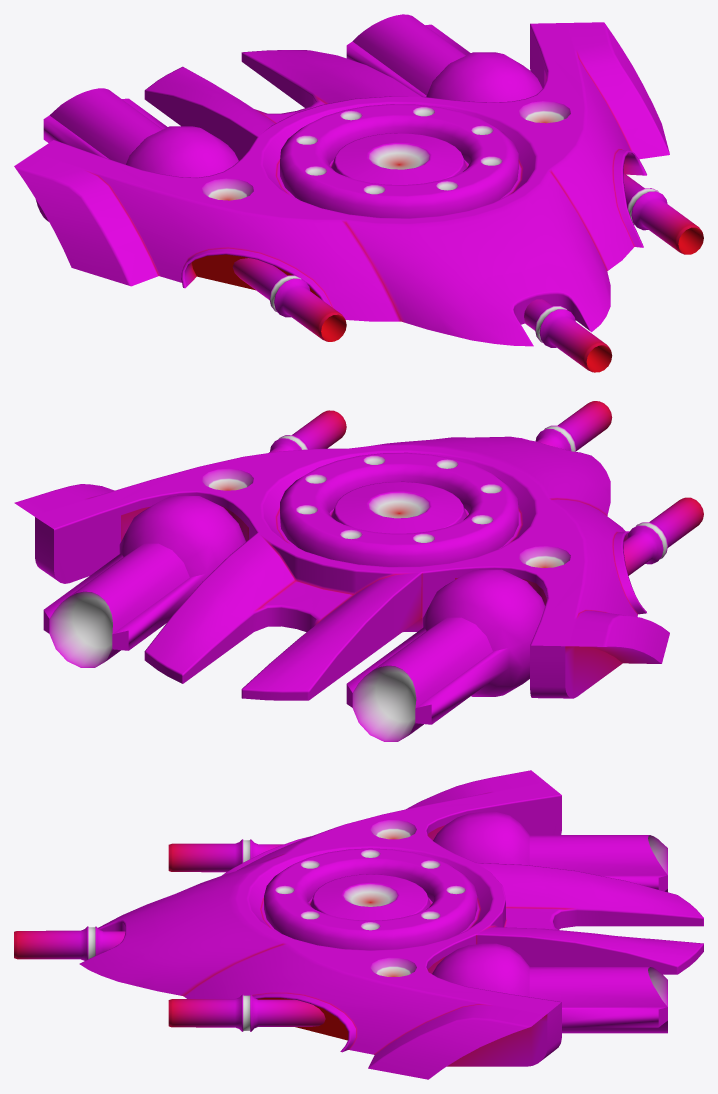
File: CHILLI Shooter Ship.fbx
3 views of the same model, one above another, from view 1: azimuth 30°, elevation 25°; view 2: azimuth 150°, elevation 25°; view 3: azimuth 270°, elevation 25° (orthographic). The views are drawn at different scales.
Parts seen in each view (by area): view 1: Body, shot_disc, barrel_dual, barrel_single; view 2: Body, shot_disc, barrel_dual, barrel_single; view 3: Body, shot_disc, barrel_dual, barrel_single.
Boxes of the visible parts, x1,y1,x2,y2 form: Body: (14,14,669,346); shot_disc: (280,104,518,218); barrel_dual: (232,173,703,341); barrel_single: (524,299,612,372); Body: (14,436,669,741); shot_disc: (280,452,518,566); barrel_dual: (269,410,703,575); barrel_single: (535,401,612,451); Body: (79,770,703,1079); shot_disc: (264,848,477,950); barrel_dual: (168,839,325,1031); barrel_single: (14,926,125,960).
Bounding box in the file's own units: 2.04 × 0.38 × 2.32.
